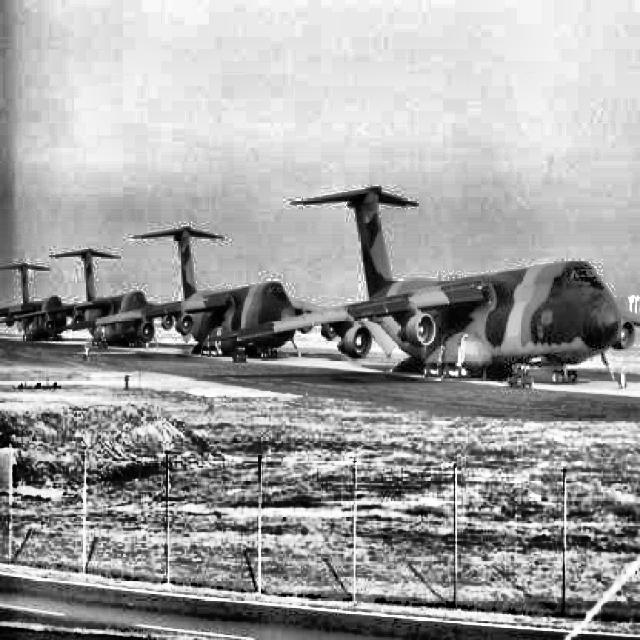C5: (204, 186, 640, 384), (53, 225, 370, 360), (1, 248, 176, 348), (1, 262, 82, 340)
